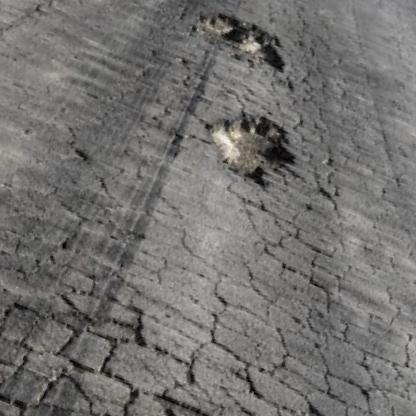pothole: (193, 94, 308, 196), (187, 0, 297, 73)
